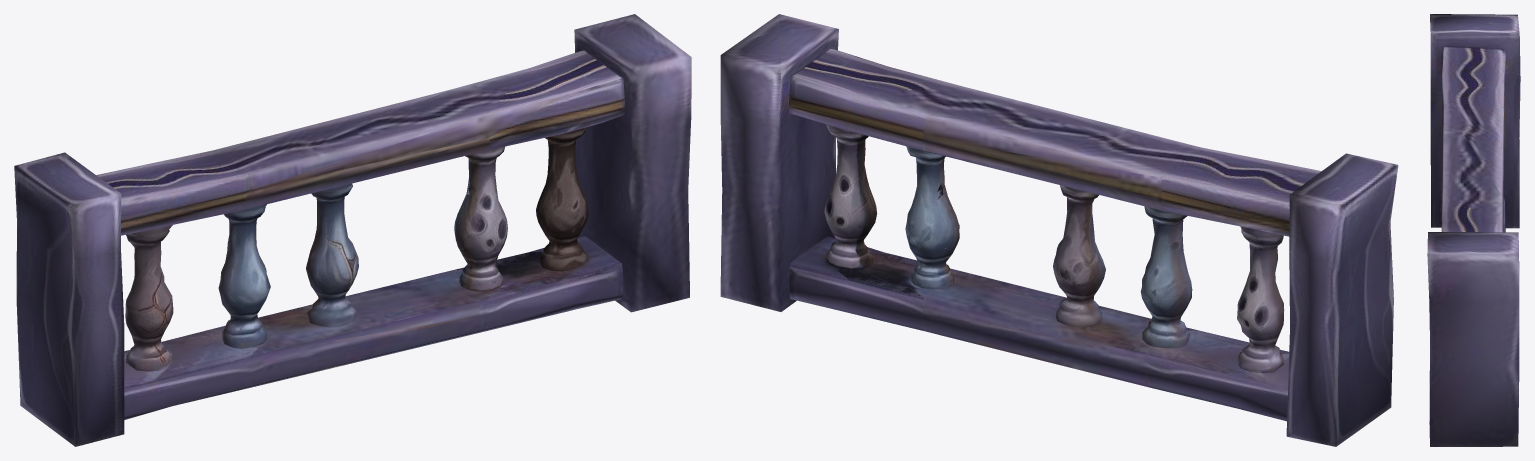
Rendered from cp_muro_balaustrada.glb.
The picture shows the model from 3 angles, left to right: view 1: azimuth 30°, elevation 25°; view 2: azimuth 150°, elevation 25°; view 3: azimuth 270°, elevation 25°; orthographic projection. The views are drawn at different scales.
Parts seen in each view (by area): view 1: Mesh_0.002; view 2: Mesh_0.002; view 3: Mesh_0.002.
Boxes of the visible parts, x1=… form: Mesh_0.002: x1=14, y1=14, x2=691, y2=446; Mesh_0.002: x1=720, y1=14, x2=1398, y2=446; Mesh_0.002: x1=1427, y1=14, x2=1520, y2=446.
Bounding box in the file's own units: 0.3745 × 0.1401 × 0.0613.
1 material, 1 textured.
